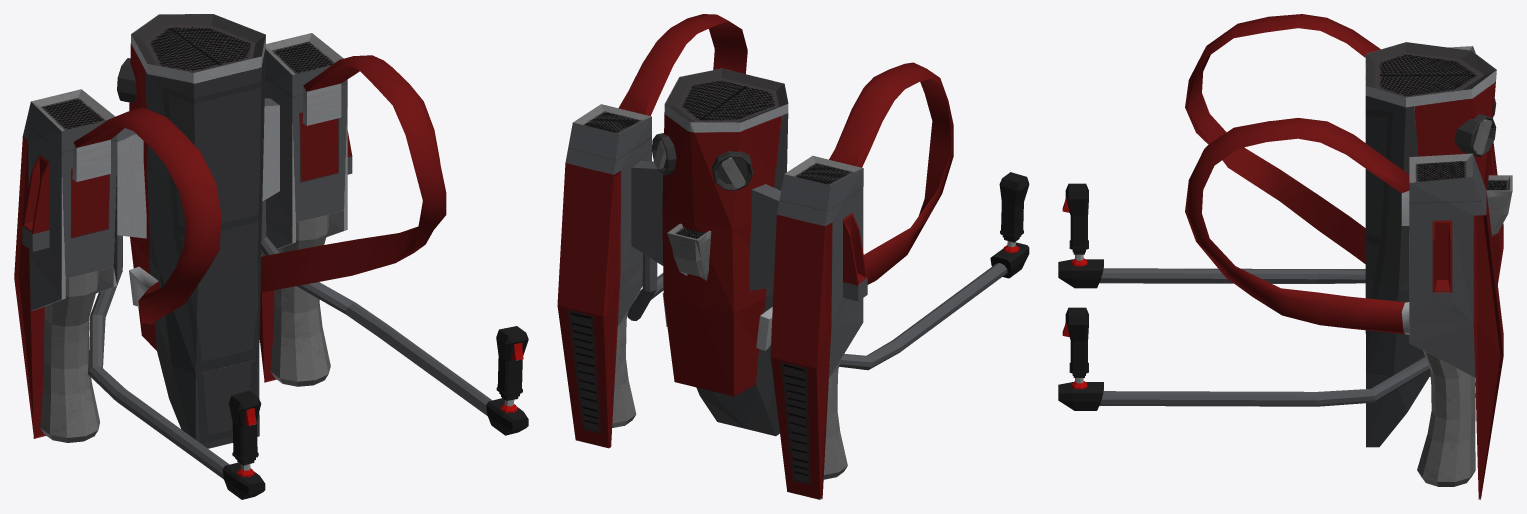
Rendered from Jetpack.fbx.
3 views of the same model, side by side, from view 1: azimuth 30°, elevation 25°; view 2: azimuth 150°, elevation 25°; view 3: azimuth 270°, elevation 25° (orthographic). The views are drawn at different scales.
Parts seen in each view (by area): view 1: pCube2; view 2: pCube2; view 3: pCube2.
Boxes of the visible parts, x1,y1,x2,y2 form: pCube2: (14,14,528,499); pCube2: (557,14,1029,499); pCube2: (1058,14,1512,499).
Size of the model in its own units: 3.23 by 3.74 by 4.17.
Materials: 1 (1 with a texture image).
